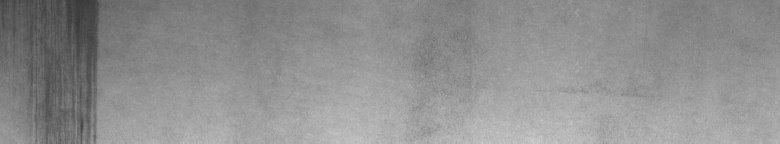ka: (13, 4, 104, 136)
